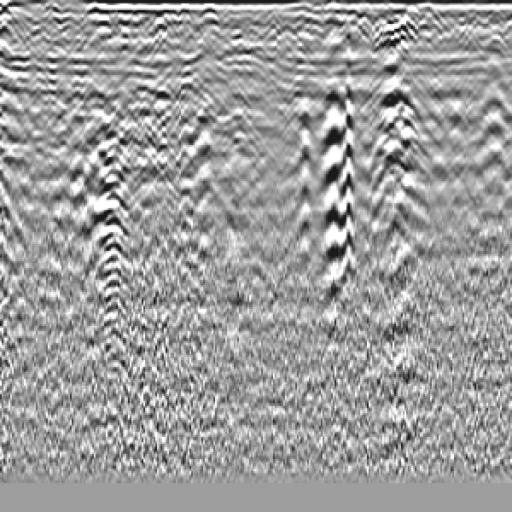metalic: (365, 31, 435, 298)
